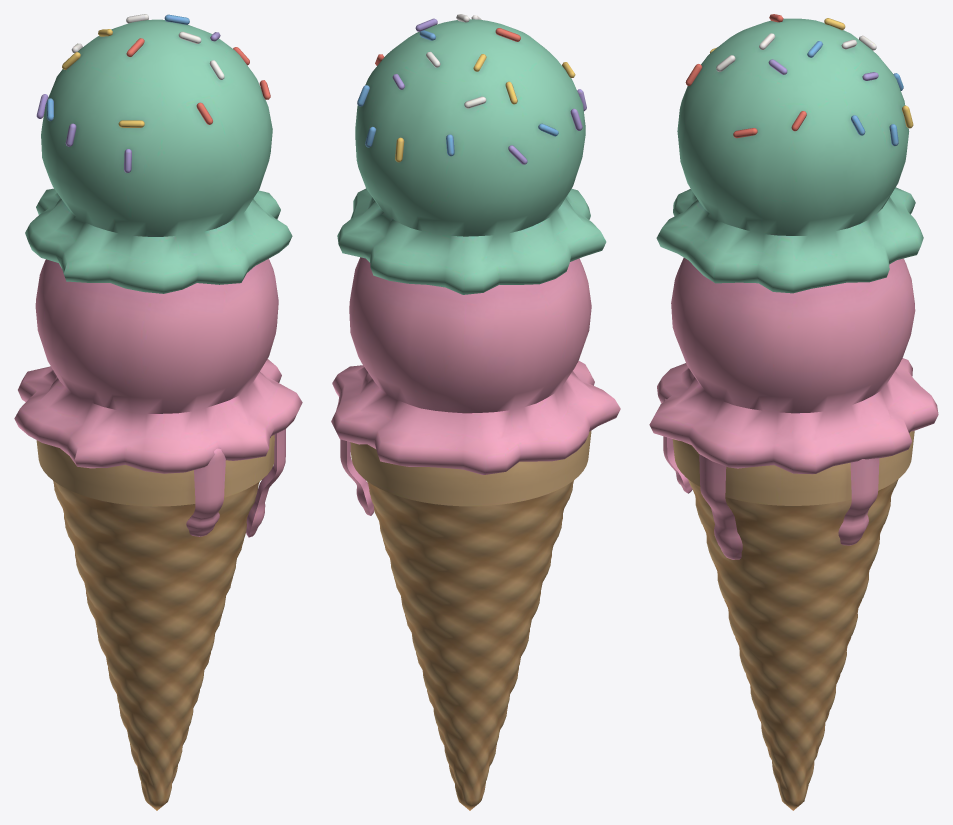
Rendered from ice-cream-cone.glb.
The picture shows the model from 3 angles, left to right: view 1: azimuth 30°, elevation 25°; view 2: azimuth 150°, elevation 25°; view 3: azimuth 270°, elevation 25°; orthographic projection.
Parts seen in each view (by area): view 1: ice-cream-cone_body; view 2: ice-cream-cone_body; view 3: ice-cream-cone_body.
Part boxes in pixels (x1,y1,x2,y2): ice-cream-cone_body: (14, 14, 302, 810); ice-cream-cone_body: (331, 14, 620, 810); ice-cream-cone_body: (649, 14, 938, 810).
Size of the model in its own units: 0.0716 by 0.2164 by 0.0723.
Materials: 1 (1 with a texture image).
